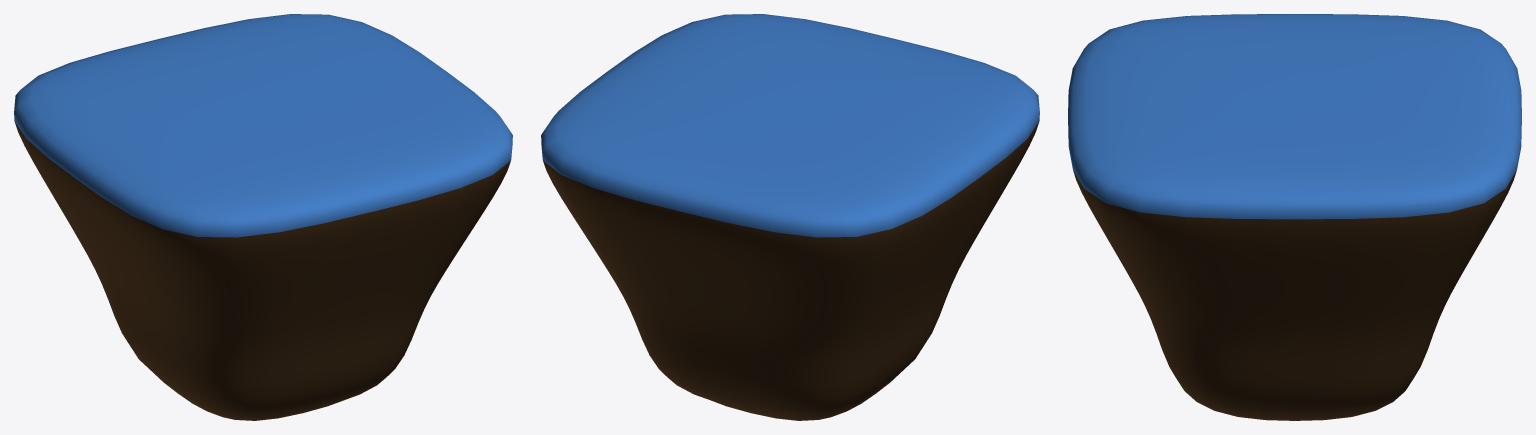
Rendered from TestTile (1).fbx.
3 views of the same model, side by side, from view 1: azimuth 30°, elevation 25°; view 2: azimuth 150°, elevation 25°; view 3: azimuth 270°, elevation 25° (orthographic). The views are drawn at different scales.
Visible parts, largest first — view 1: GrassType2; view 2: GrassType2; view 3: GrassType2.
Boxes of the visible parts, x1,y1,x2,y2 form: GrassType2: [14, 14, 512, 420]; GrassType2: [541, 14, 1039, 420]; GrassType2: [1068, 14, 1521, 420].
Size of the model in its own units: 406 by 300 by 406.
